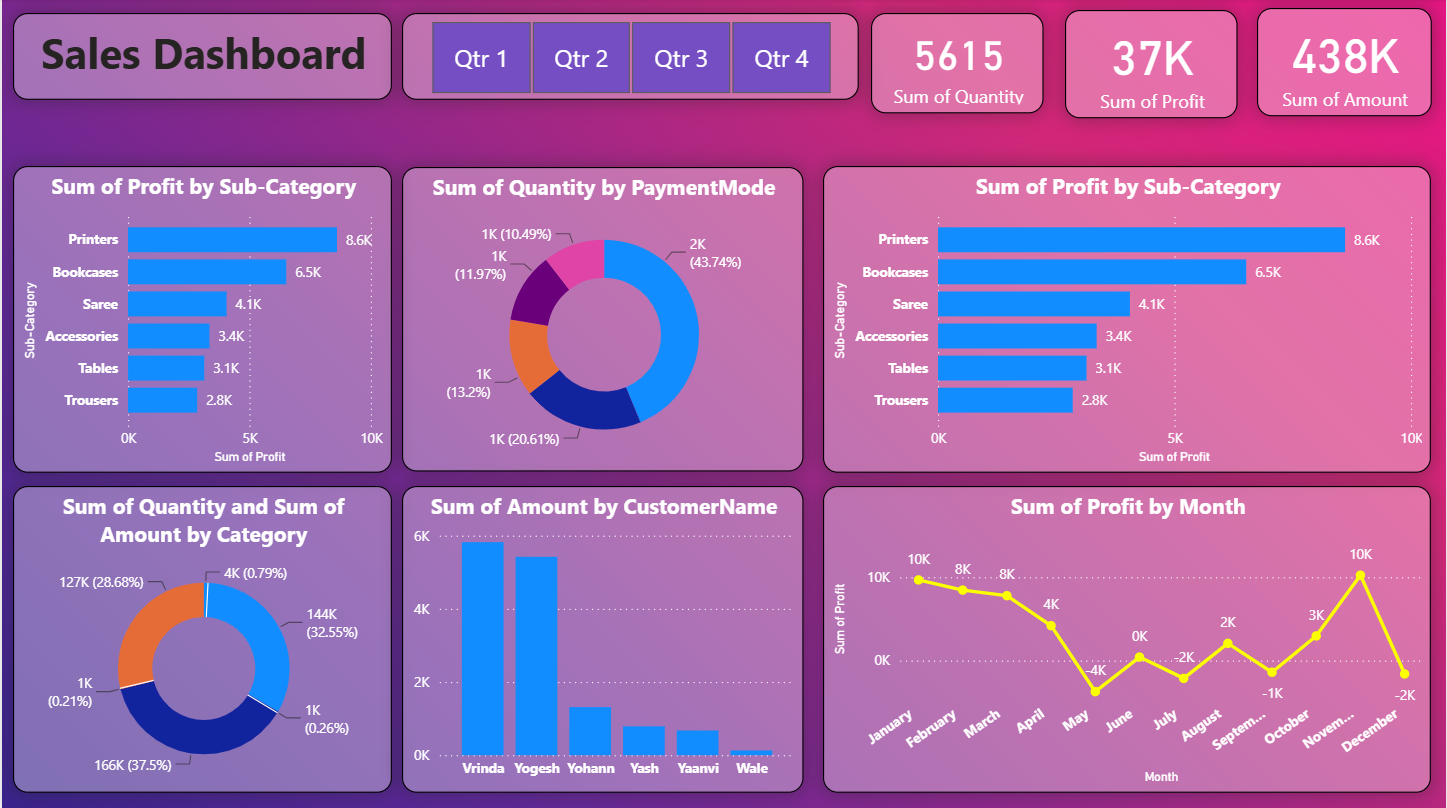

The page's visual inventory and layout, read from the dashboard file:
{"tool":"powerbi","page":{"name":"Page 1","canvas":[1280,720],"ordinal":0},"visuals":[{"type":"textbox","box":[9.4,12.1,336.3,76.7],"z":0},{"type":"lineChart","fields":{"Category":["Orders.Order Date.Variation.Date Hierarchy.Month"],"Y":["Sum(Details.Profit)"]},"box":[727.7,431.8,539.4,271.7],"z":1000},{"type":"barChart","fields":{"Category":["Details.Sub-Category"],"Y":["Sum(Details.Profit)"]},"box":[727.7,148,539.4,271.7],"z":2000},{"type":"donutChart","fields":{"Category":["Details.Category"],"Y":["Sum(Details.Quantity)","Sum(Details.Amount)"]},"box":[9.4,431.8,336.3,271.7],"z":3000},{"type":"donutChart","fields":{"Category":["Details.PaymentMode"],"Y":["Sum(Details.Quantity)"]},"box":[355.1,149.3,356.5,270.4],"z":4000},{"type":"card","fields":{"Values":["Sum(Details.Amount)"]},"box":[1112.4,8.1,154.7,95.5],"z":5000},{"type":"card","fields":{"Values":["Sum(Details.Profit)"]},"box":[942.9,9.4,153.3,95.5],"z":6000},{"type":"card","fields":{"Values":["Sum(Details.Quantity)"]},"box":[770.7,12.1,153.3,88.8],"z":7000},{"type":"barChart","fields":{"Category":["Details.Sub-Category"],"Y":["Sum(Details.Profit)"]},"box":[9.4,148,336.3,271.7],"z":8000},{"type":"lineStackedColumnComboChart","fields":{"Category":["Orders.CustomerName"],"Y":["Sum(Details.Amount)"]},"box":[355.1,431.8,356.5,271.7],"z":9000},{"type":"slicer","fields":{"Values":["Orders.Order Date.Variation.Date Hierarchy.Quarter"]},"box":[355.1,12.1,404.9,76.7],"z":10000}]}

Visuals, with their boxes in screenshot pixels (x1, y1, x2, y2), scaled from the page's 1280x720 canvas onto the 1447x808 screenshot:
textbox: (left=11, top=14, right=391, bottom=100)
lineChart - Orders.Order Date.Variation.Date Hierarchy.Month x Sum(Details.Profit): (left=823, top=485, right=1432, bottom=789)
barChart - Details.Sub-Category x Sum(Details.Profit): (left=823, top=166, right=1432, bottom=471)
donutChart - Details.Category x Sum(Details.Quantity): (left=11, top=485, right=391, bottom=789)
donutChart - Details.PaymentMode x Sum(Details.Quantity): (left=401, top=168, right=804, bottom=471)
card - Sum(Details.Amount): (left=1258, top=9, right=1432, bottom=116)
card - Sum(Details.Profit): (left=1066, top=11, right=1239, bottom=118)
card - Sum(Details.Quantity): (left=871, top=14, right=1045, bottom=113)
barChart - Details.Sub-Category x Sum(Details.Profit): (left=11, top=166, right=391, bottom=471)
lineStackedColumnComboChart - Orders.CustomerName x Sum(Details.Amount): (left=401, top=485, right=804, bottom=789)
slicer - Orders.Order Date.Variation.Date Hierarchy.Quarter: (left=401, top=14, right=859, bottom=100)
